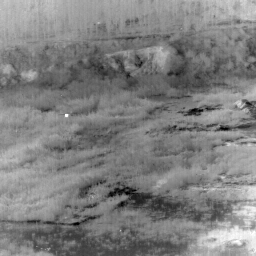aircraft: (66, 114, 68, 116)
